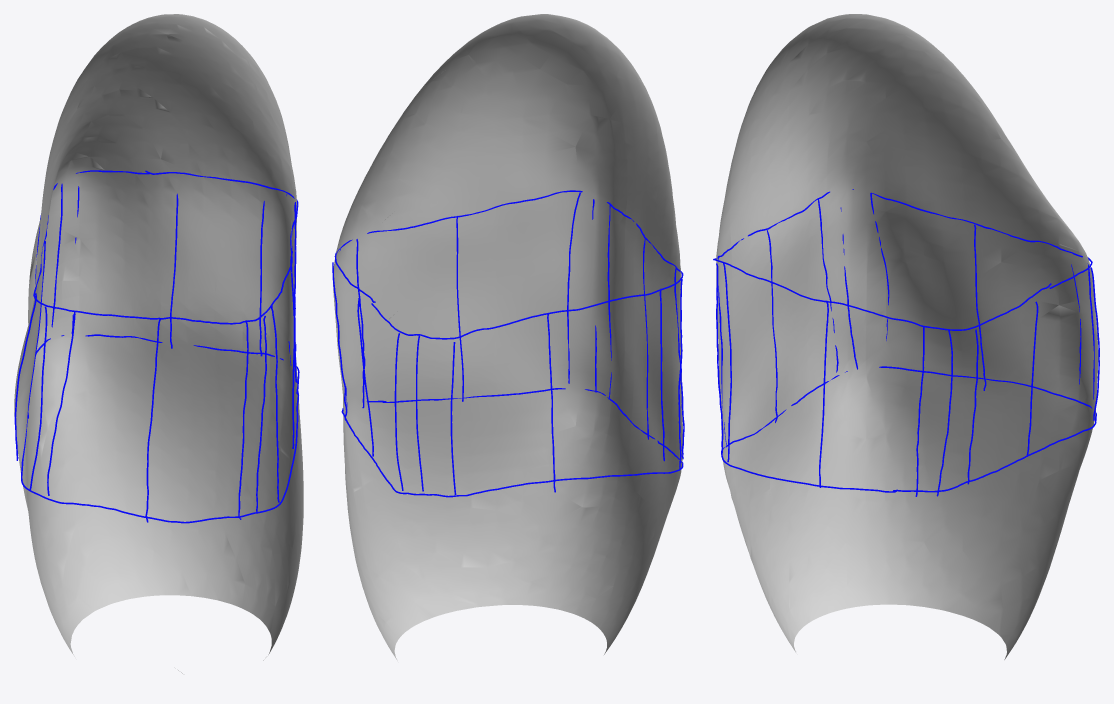
Rendered from scaffold_sketch_P2_tutorial_sketch_proxy.glb.
3 renders of one model, left to right at view 1: azimuth 30°, elevation 25°; view 2: azimuth 150°, elevation 25°; view 3: azimuth 270°, elevation 25°, orthographic. The views are drawn at different scales.
Parts seen in each view (by area): view 1: scaffold_sketch_P2_tutorial_surface, scaffold_sketch_P2_tutorial; view 2: scaffold_sketch_P2_tutorial_surface, scaffold_sketch_P2_tutorial; view 3: scaffold_sketch_P2_tutorial_surface, scaffold_sketch_P2_tutorial.
Boxes of the visible parts, <box> form: scaffold_sketch_P2_tutorial_surface: <box>14,14,303,673</box>; scaffold_sketch_P2_tutorial: <box>14,170,299,523</box>; scaffold_sketch_P2_tutorial_surface: <box>333,14,682,660</box>; scaffold_sketch_P2_tutorial: <box>332,190,684,497</box>; scaffold_sketch_P2_tutorial_surface: <box>716,14,1098,659</box>; scaffold_sketch_P2_tutorial: <box>713,189,1099,496</box>.
Size of the model in its own units: 0.9002 by 1.75 by 1.
